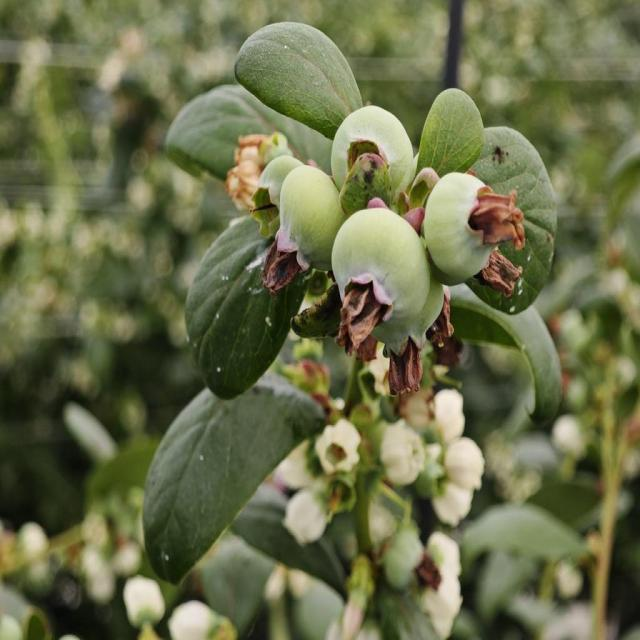UnripeBlueBerry: (329, 205, 432, 332), (426, 170, 507, 284), (330, 104, 416, 201), (275, 161, 347, 274)
